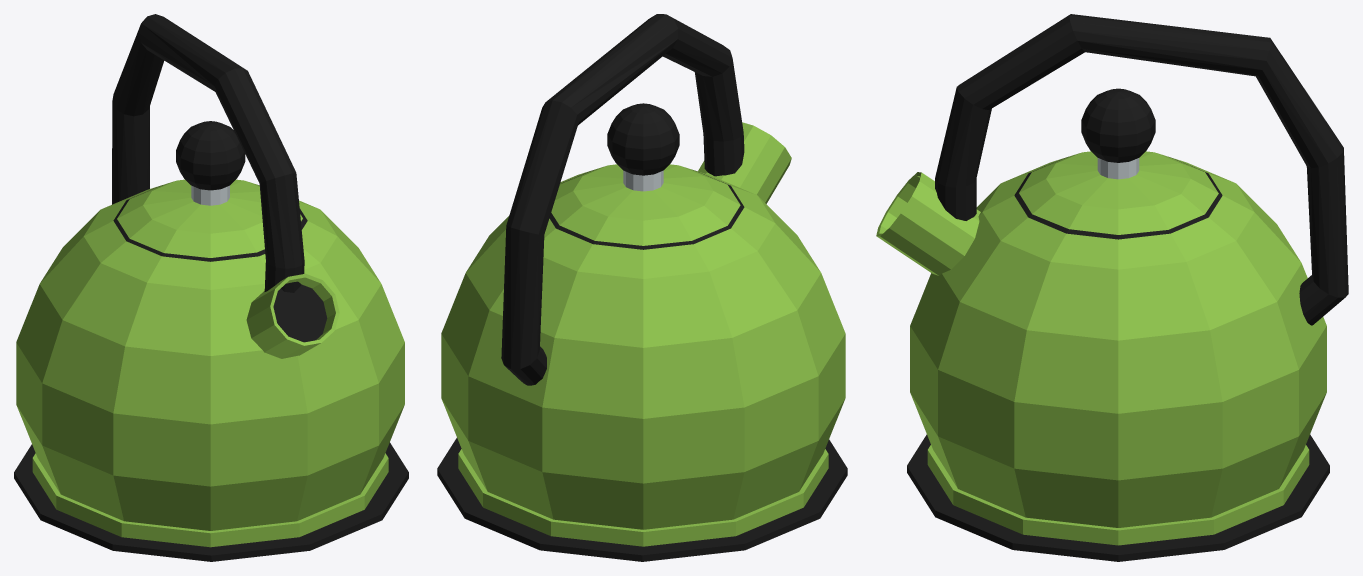
The model's file is Tea Kettle.glb.
The picture shows the model from 3 angles, left to right: view 1: azimuth 30°, elevation 25°; view 2: azimuth 150°, elevation 25°; view 3: azimuth 270°, elevation 25°; orthographic projection. The views are drawn at different scales.
Parts seen in each view (by area): view 1: Node; view 2: Node; view 3: Node.
Boxes of the visible parts, box(x1,y1,x2,y2) form: Node: box(14, 14, 408, 561); Node: box(437, 14, 847, 561); Node: box(876, 14, 1348, 561).
Size of the model in its own units: 1.12 by 1.34 by 1.25.
